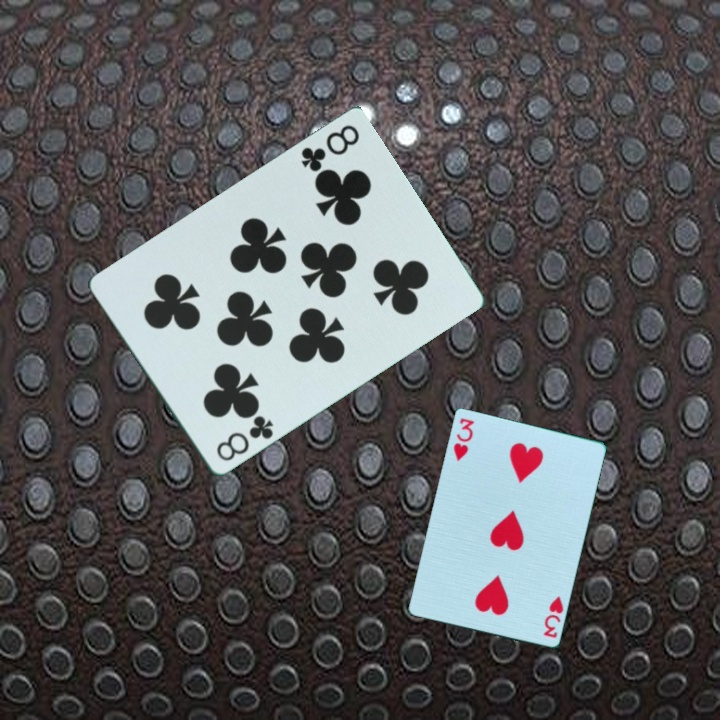3h: (450, 415, 477, 464), (540, 593, 567, 641)
8c: (297, 121, 363, 176), (212, 412, 277, 465)
